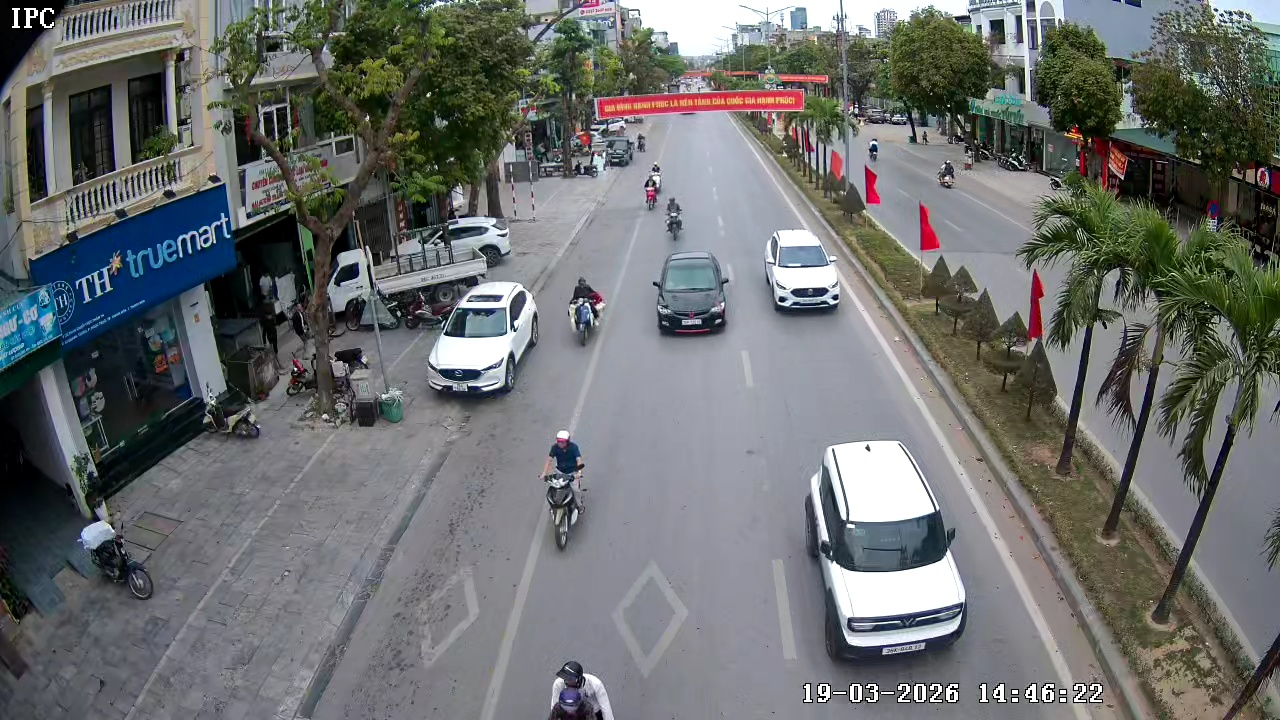car: (803, 437, 972, 663), (426, 280, 541, 397), (651, 249, 732, 335), (763, 227, 842, 313)
motorbike: (77, 512, 156, 600), (539, 429, 589, 551), (566, 274, 604, 348), (663, 195, 684, 240), (642, 167, 661, 211)
